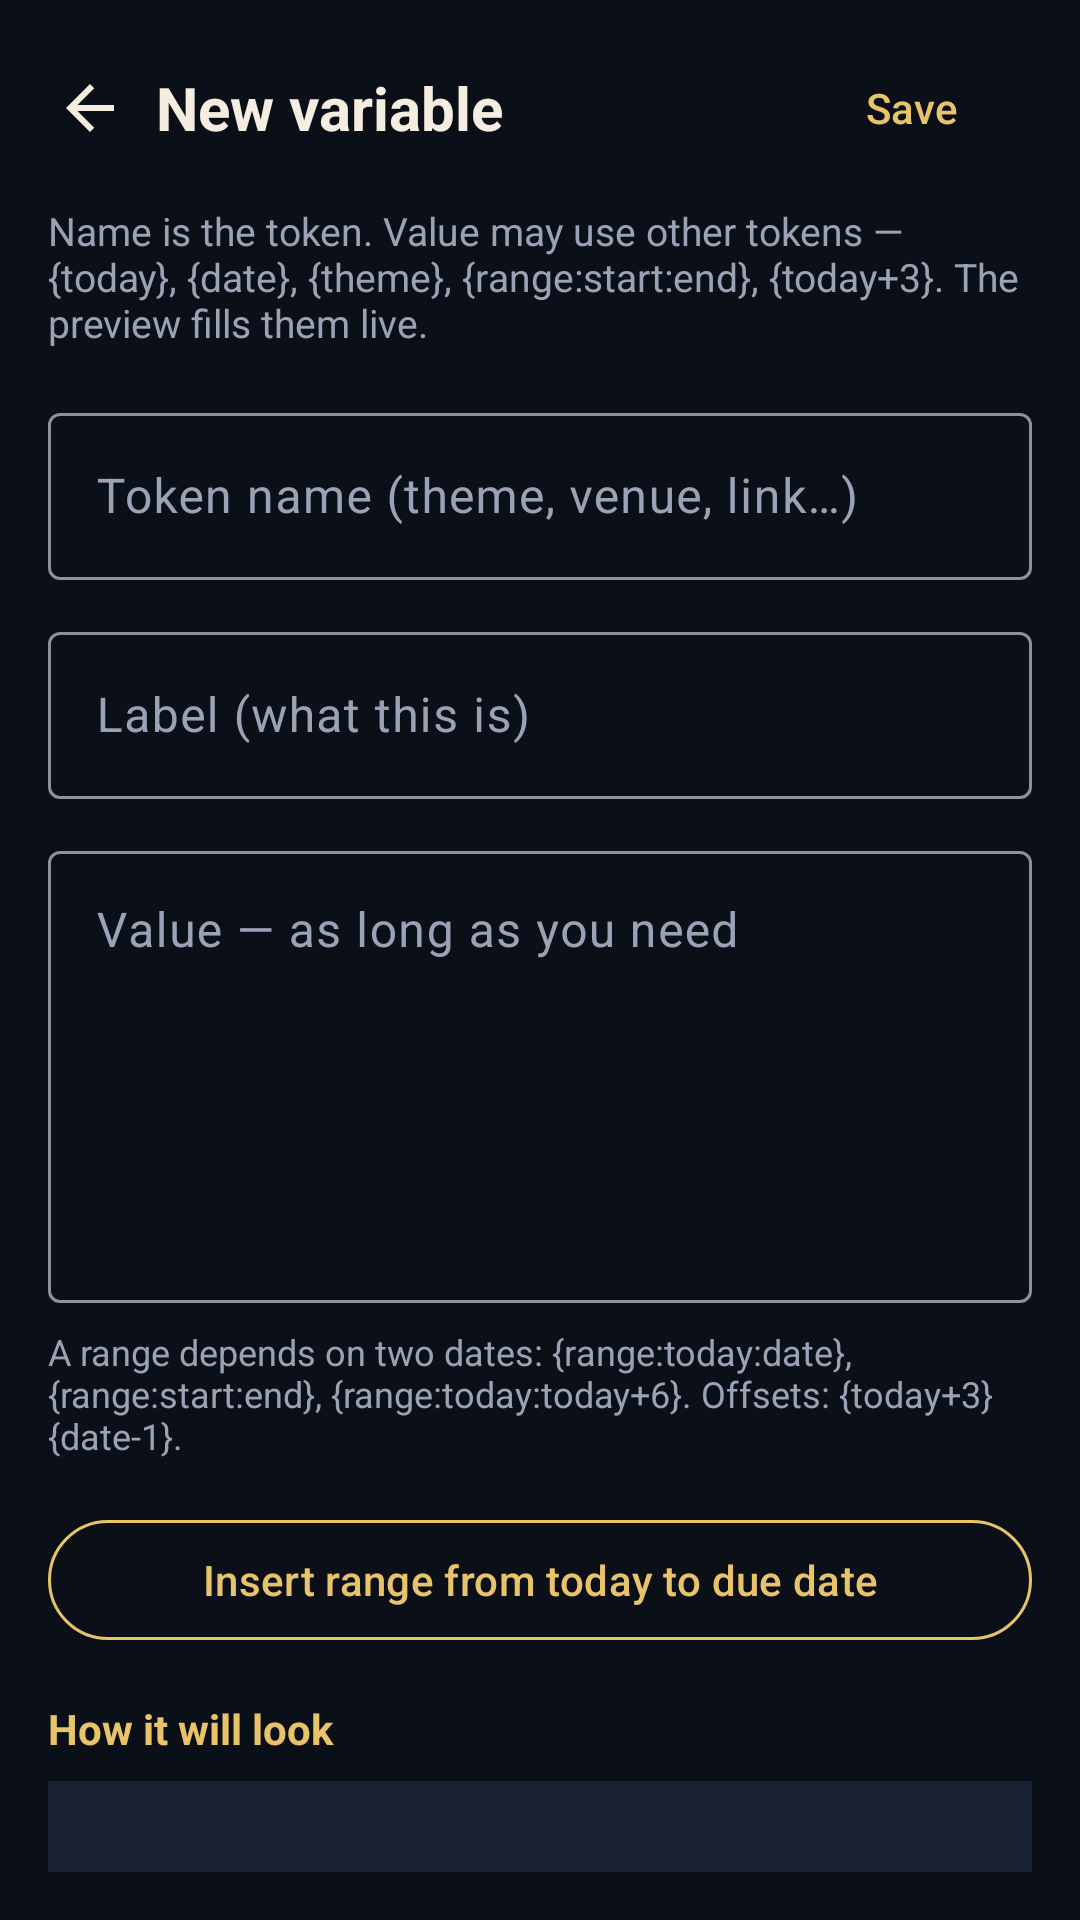

Icon bounding boxes for this 1080w x 1920h phone screenshot, format {"left": x1, "top": y1, "right": x2, "bottom": y2}:
Back: {"left": 66, "top": 84, "right": 114, "bottom": 132}
